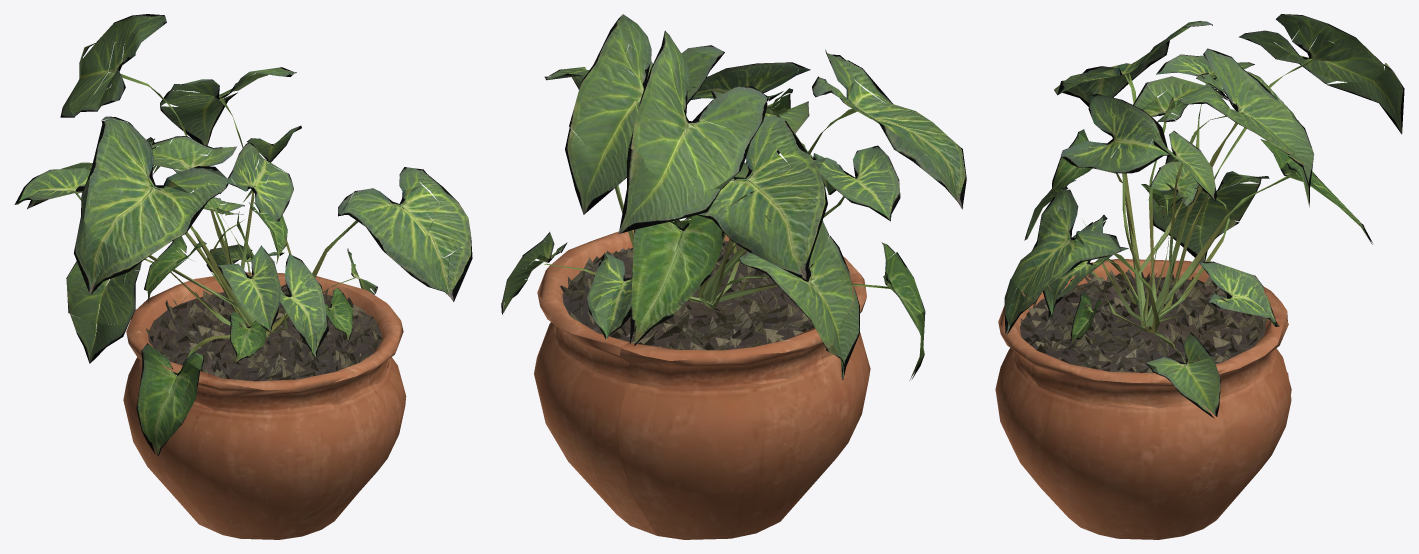
Rendered from plant_leafy_pot.glb.
3 views of the same model, side by side, from view 1: azimuth 30°, elevation 25°; view 2: azimuth 150°, elevation 25°; view 3: azimuth 270°, elevation 25° (orthographic). The views are drawn at different scales.
Parts seen in each view (by area): view 1: plant_leafy_pot; view 2: plant_leafy_pot; view 3: plant_leafy_pot.
Boxes of the visible parts, bbox=[...] form: plant_leafy_pot: bbox=[14, 14, 472, 539]; plant_leafy_pot: bbox=[501, 14, 966, 539]; plant_leafy_pot: bbox=[995, 14, 1404, 539].
Size of the model in its own units: 0.7008 by 0.8417 by 0.6552.
2 materials, 2 textured.
